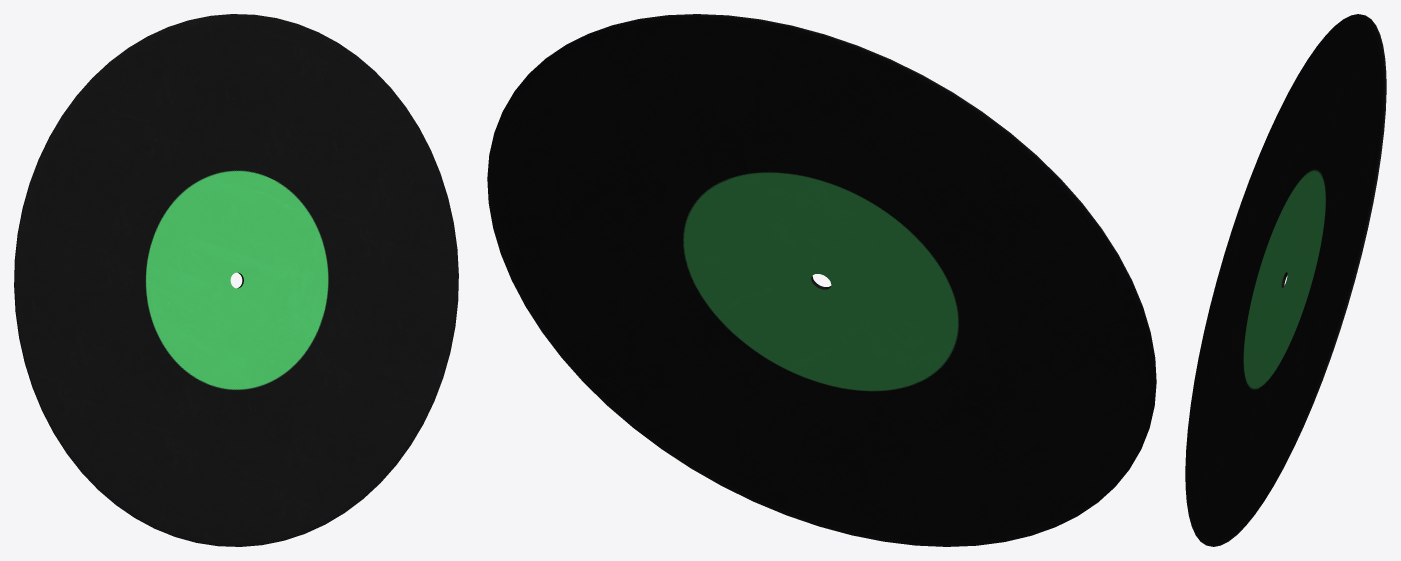
Rendered from VinylRecord3.obj.
3 renders of one model, left to right at view 1: azimuth 30°, elevation 25°; view 2: azimuth 150°, elevation 25°; view 3: azimuth 270°, elevation 25°, orthographic. The views are drawn at different scales.
Visible parts, largest first — view 1: VinylRecord3; view 2: VinylRecord3; view 3: VinylRecord3.
Part boxes in pixels (bbox=[...]): VinylRecord3: bbox=[14, 14, 458, 546]; VinylRecord3: bbox=[487, 14, 1156, 546]; VinylRecord3: bbox=[1185, 14, 1386, 546].
Size of the model in its own units: 9.77 by 9.21 by 3.57.
